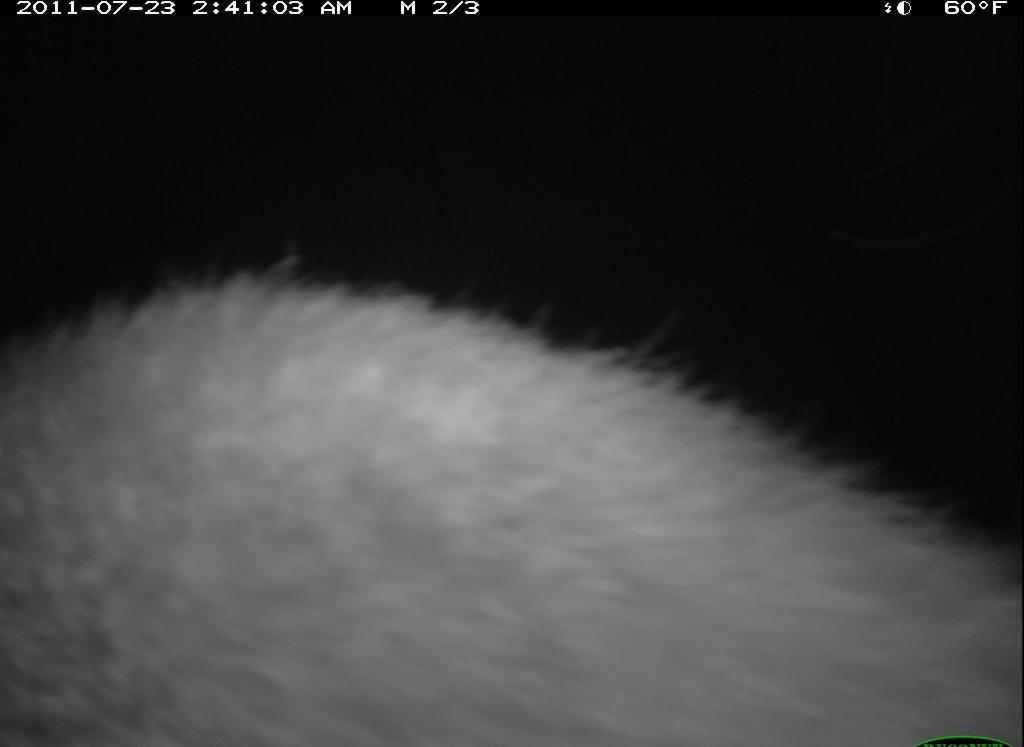raccoon: (7, 258, 1022, 747)
